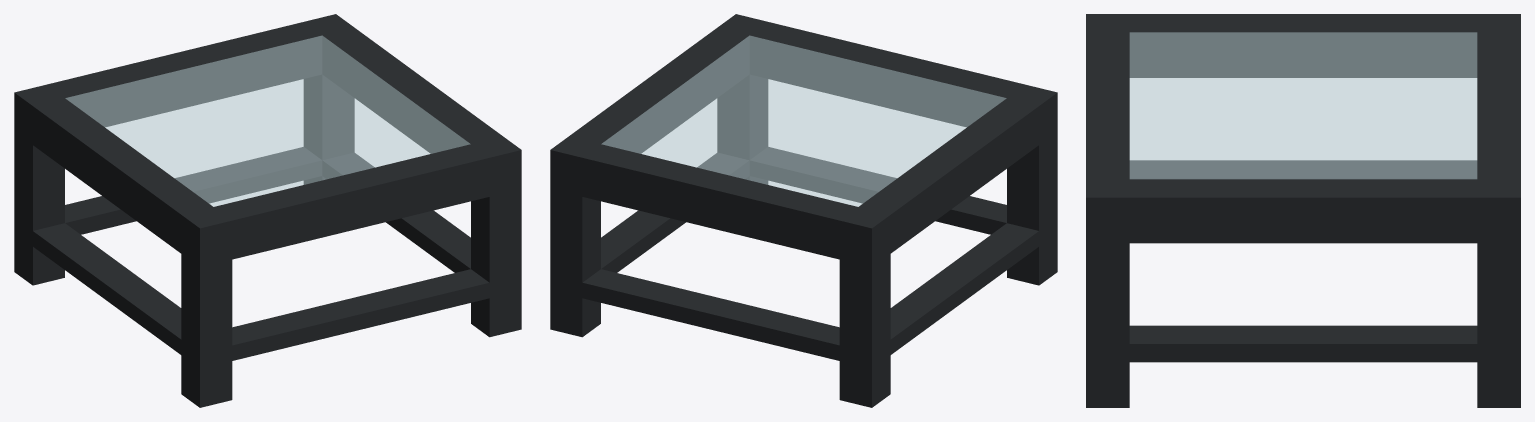
File: table-coffee-glass-square.glb
3 renders of one model, left to right at view 1: azimuth 30°, elevation 25°; view 2: azimuth 150°, elevation 25°; view 3: azimuth 270°, elevation 25°, orthographic. The views are drawn at different scales.
Visible parts, largest first — view 1: table-coffee-glass-square; view 2: table-coffee-glass-square; view 3: table-coffee-glass-square.
Part boxes in pixels (<box>): table-coffee-glass-square: <box>14,14,521,407</box>; table-coffee-glass-square: <box>550,14,1057,407</box>; table-coffee-glass-square: <box>1086,14,1520,407</box>.
Bounding box in the file's own units: 0.75 × 0.4 × 0.75.
